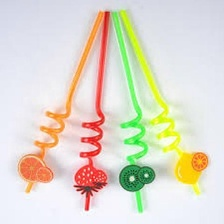drinking_straw: (115, 7, 213, 199), (9, 9, 107, 197), (111, 8, 158, 216), (68, 9, 113, 217)
